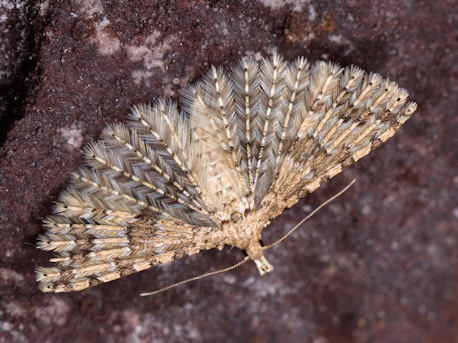Alucitidae: (31, 37, 419, 304)
moth: (33, 39, 421, 306)
